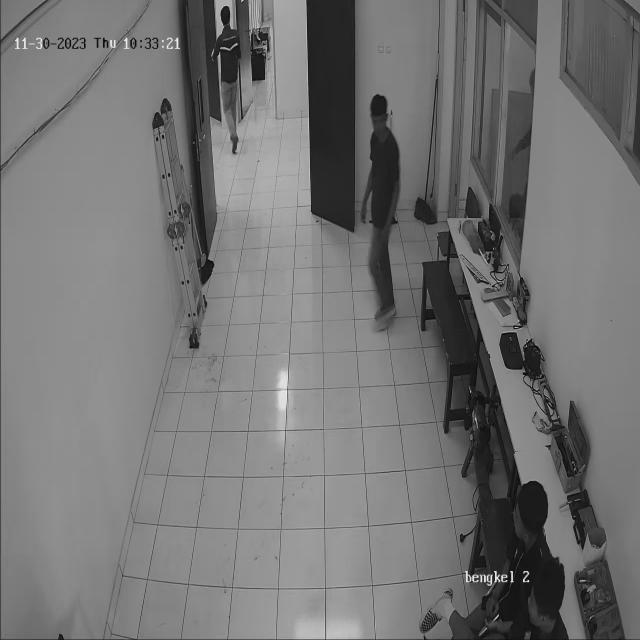person: (348, 82, 412, 347)
